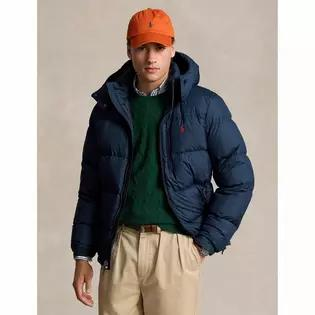coat: (69, 52, 255, 268)
sweater: (118, 89, 191, 240)
trousers: (96, 227, 202, 315)
